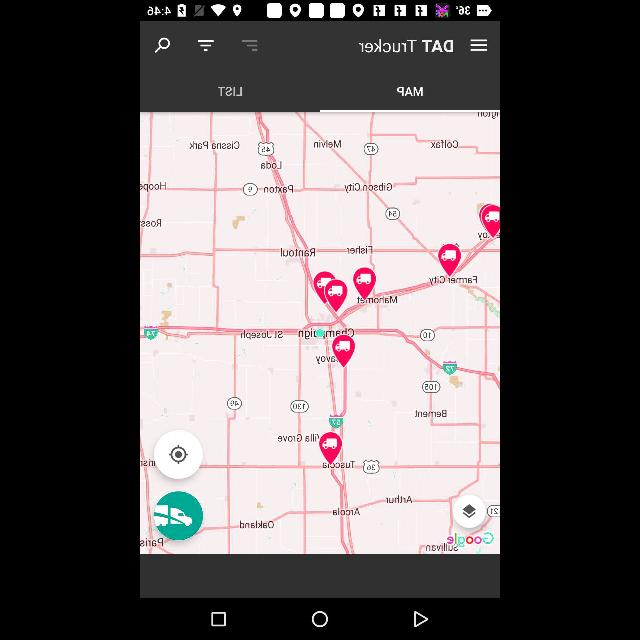icon: (469, 36, 486, 54), (154, 38, 172, 54), (242, 38, 258, 54), (312, 612, 328, 628), (198, 38, 214, 52), (414, 611, 426, 629), (212, 613, 226, 627)
map: (140, 113, 500, 555)
multitab: (140, 66, 500, 112)
panel: (140, 600, 500, 640)
text: (359, 40, 453, 52)
toolbar: (141, 21, 499, 67)
uppertaskbar: (140, 1, 500, 22)
